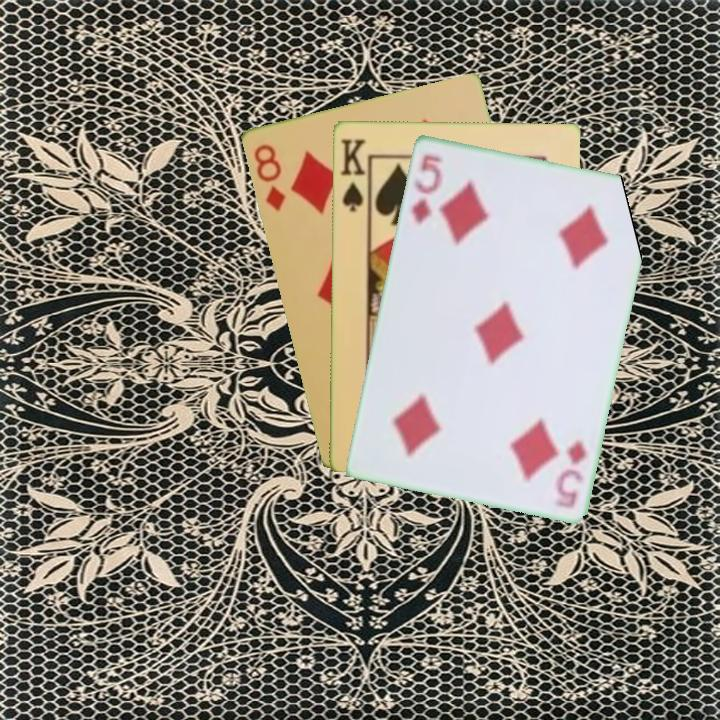5d: (408, 150, 446, 226), (551, 436, 588, 511)
8d: (250, 140, 288, 214)
Ks: (337, 135, 370, 214)
